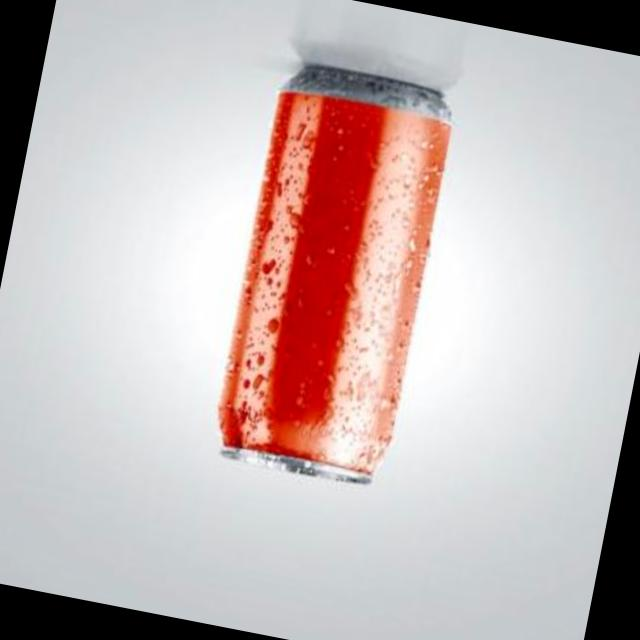metal: (221, 70, 452, 486)
